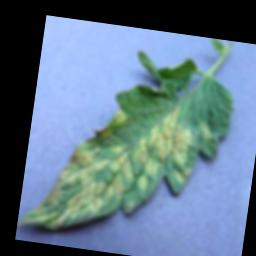Leaf_Mold: (20, 81, 202, 248)
